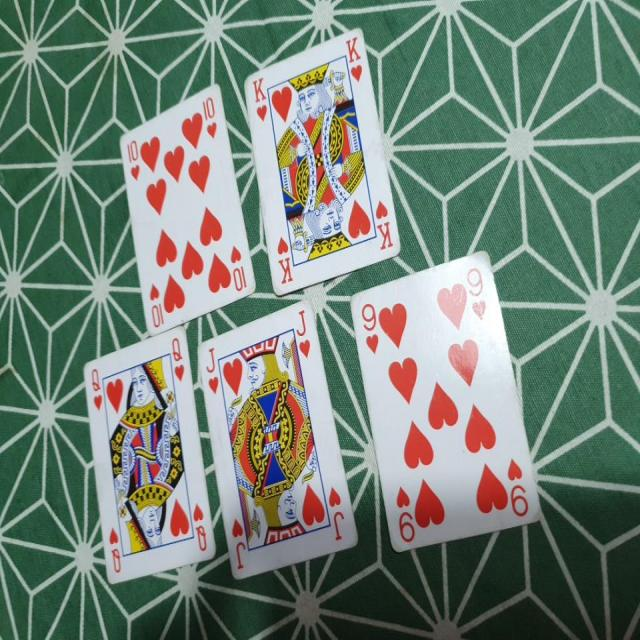10 Hearts: (115, 69, 258, 338)
9 Hearts: (348, 241, 553, 558)
J Hearts: (196, 290, 365, 597)
K Hearts: (239, 21, 404, 295)
Q Hearts: (76, 318, 218, 579)
